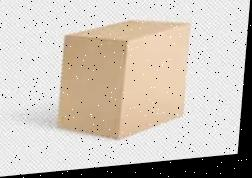cube: (57, 18, 193, 146)
